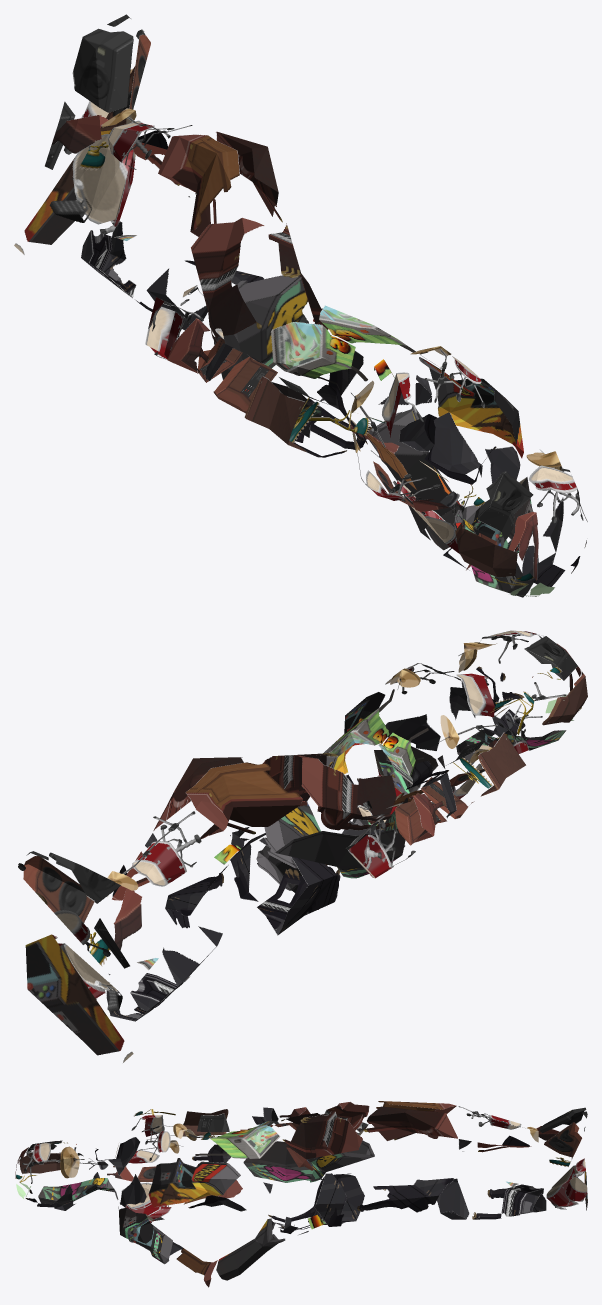
The picture shows the model from 3 angles, top to bottom: view 1: azimuth 30°, elevation 25°; view 2: azimuth 150°, elevation 25°; view 3: azimuth 270°, elevation 25°; orthographic projection. The views are drawn at different scales.
Size of the model in its own units: 0.4404 by 0.5433 by 1.6.
